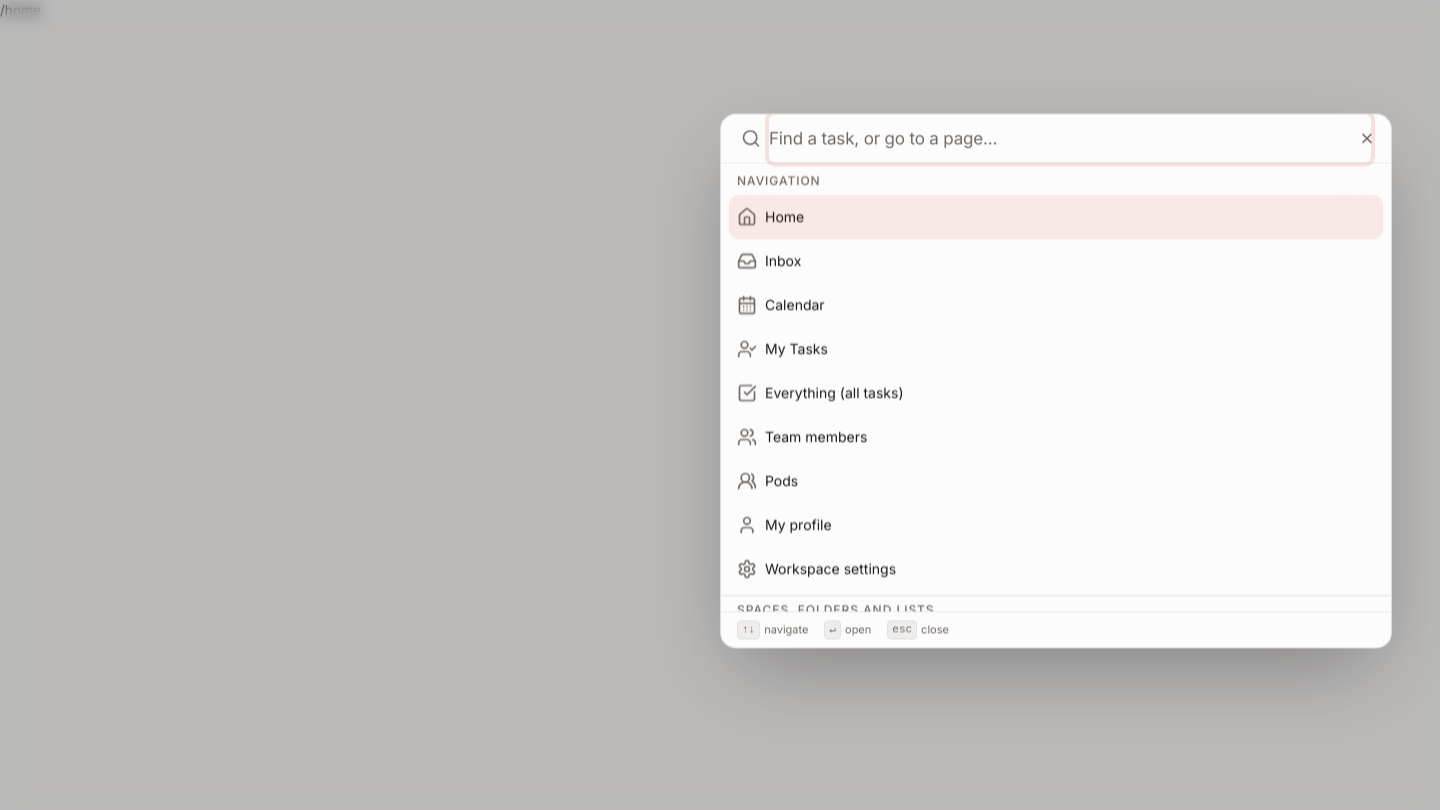
it: find any task from the command palette › says so when nothing matches, and never invents a result
The width and height of the screenshot is (1440, 810).
Type "qqqqzz" into the dropdown with placeholder "Find a task, or go to a page..." at (1070, 138), box [769, 114, 1371, 162]
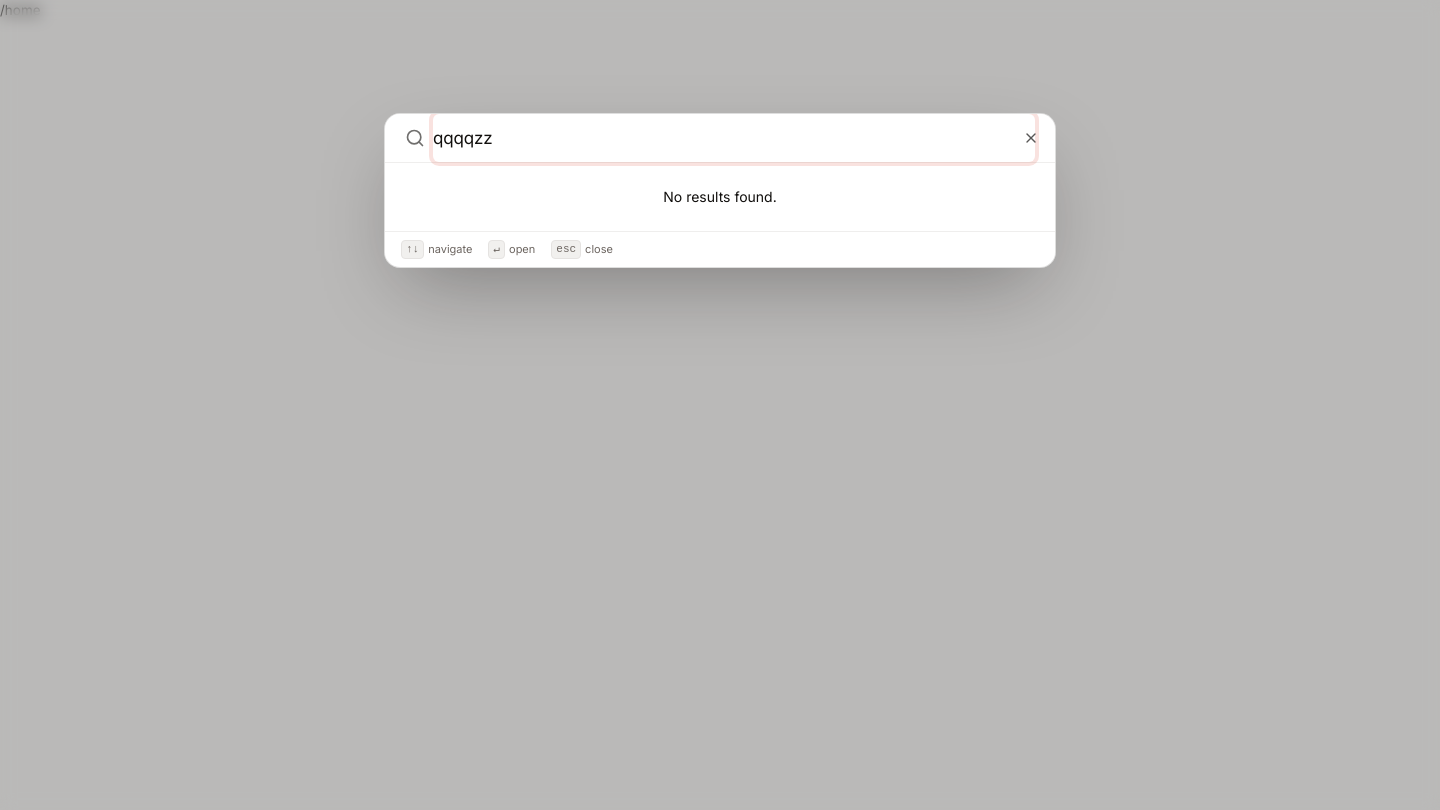
Check: the text "No results found." is shown, box [663, 188, 777, 205]
